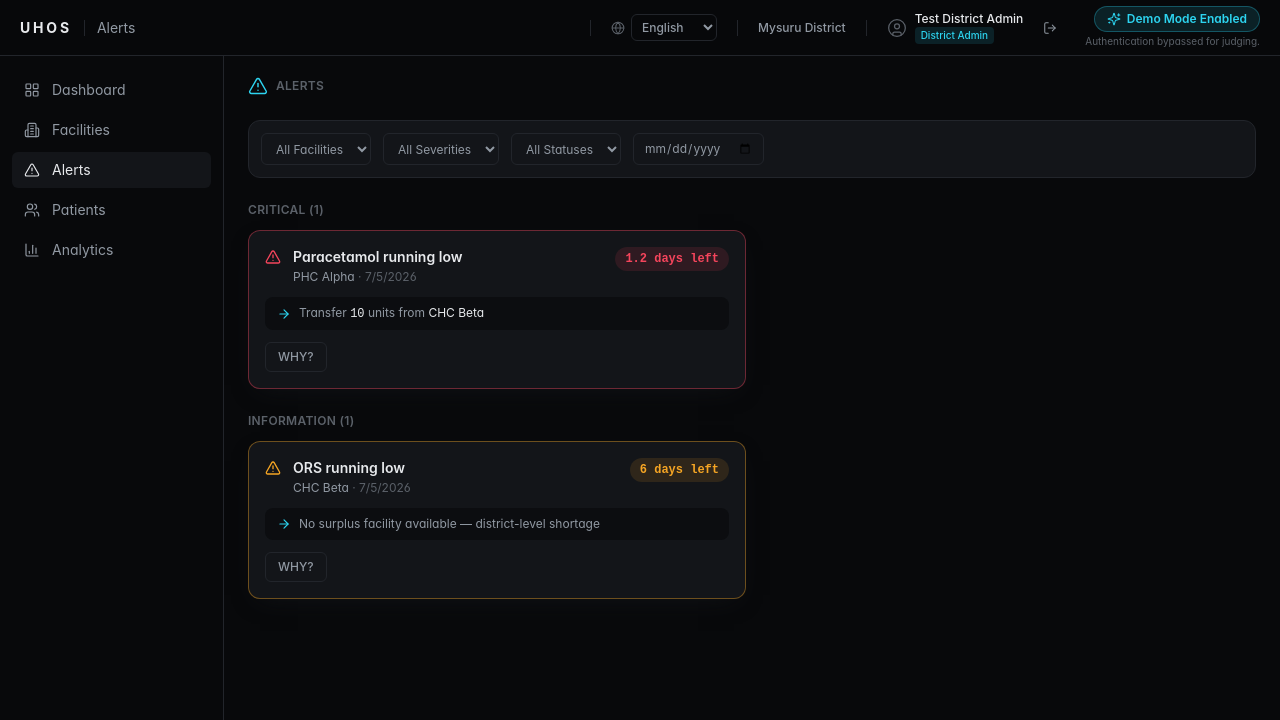
Test: Alerts page › filters by facility
Expected: the text "Paracetamol running low" is shown, [293, 247, 462, 267]
Select "CHC Beta" in the 1st dropdown showing "All Facilities" at (316, 149), box [261, 133, 371, 165]
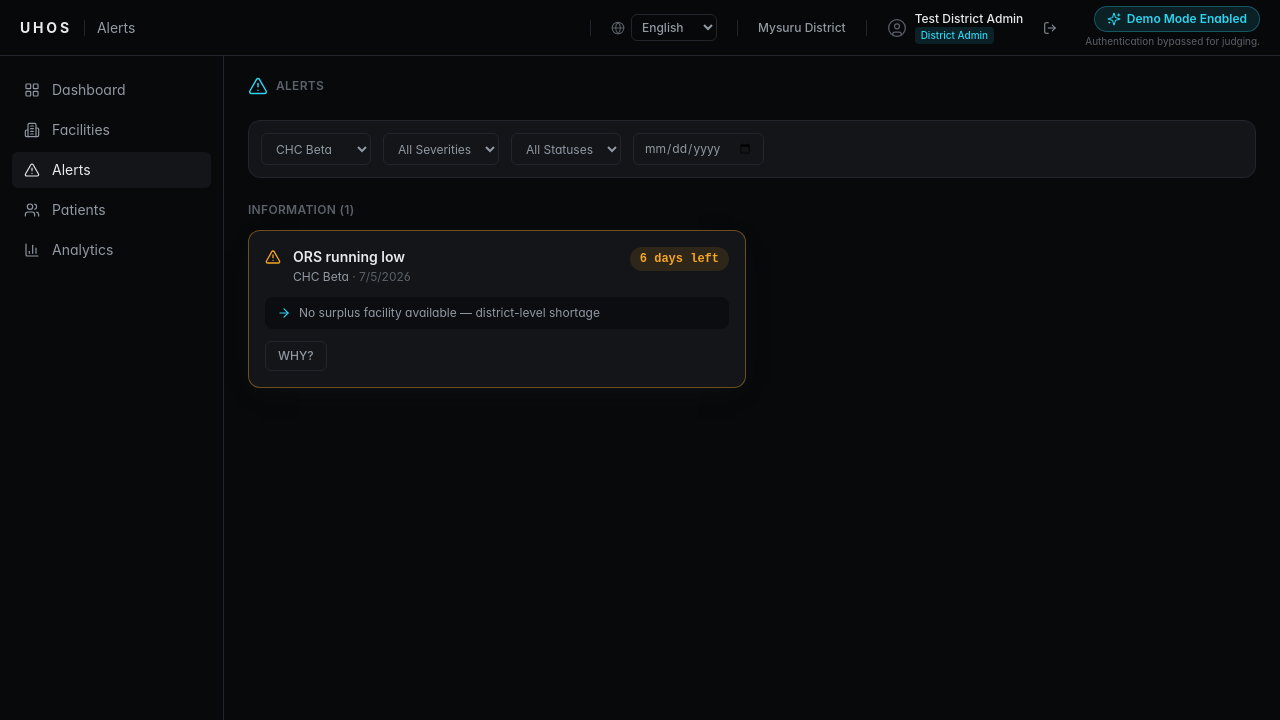
Expected: the text "ORS running low" is shown, [293, 247, 411, 267]
Result: the text "Paracetamol" is gone
